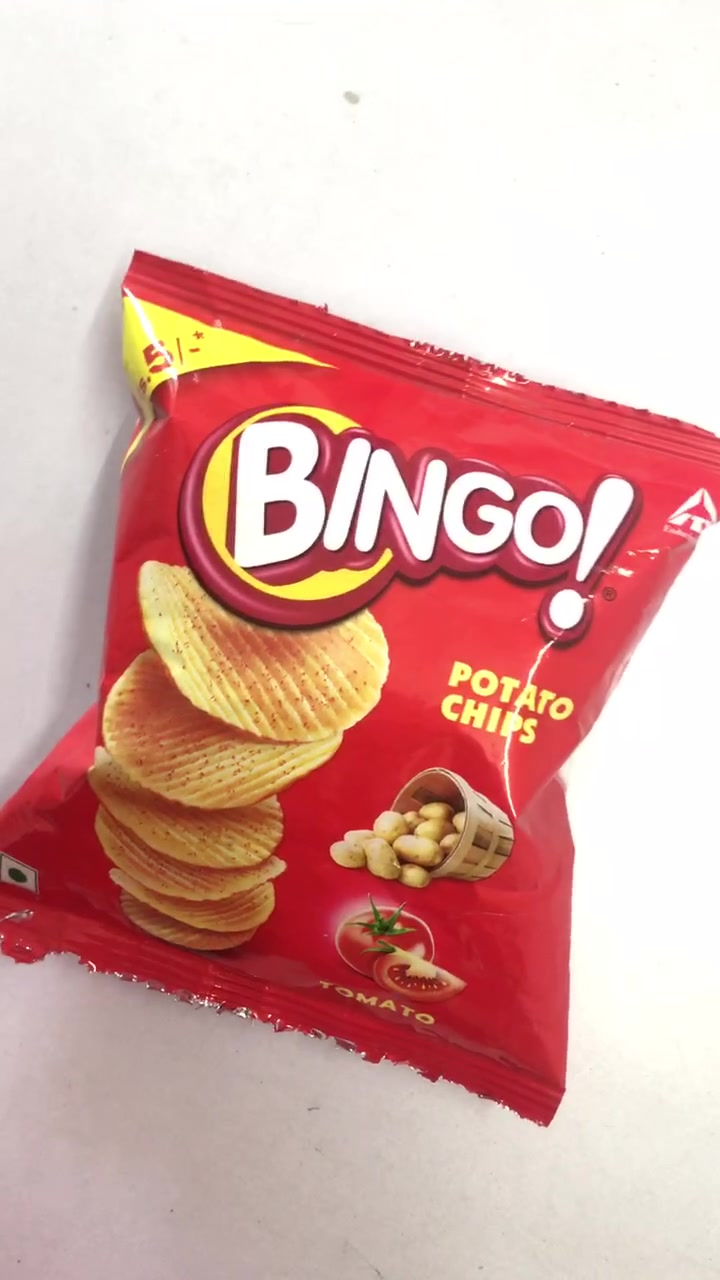Bingo: (10, 259, 720, 1107)
